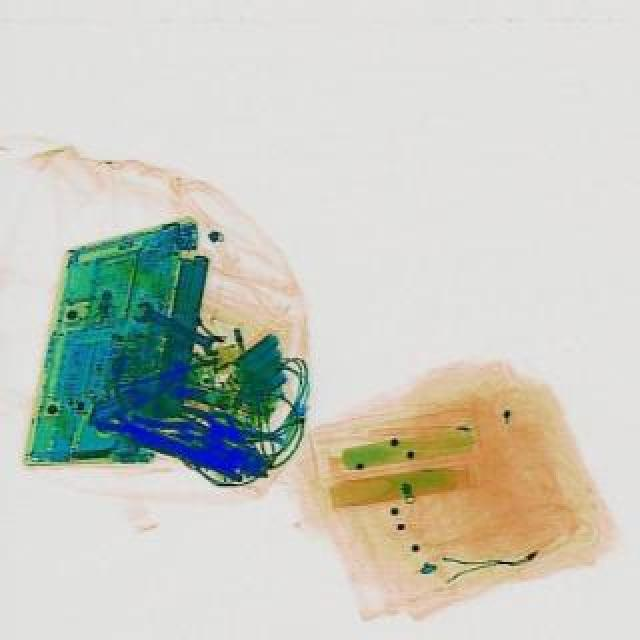scissors: (128, 296, 226, 360)
wrench: (130, 392, 246, 452)
